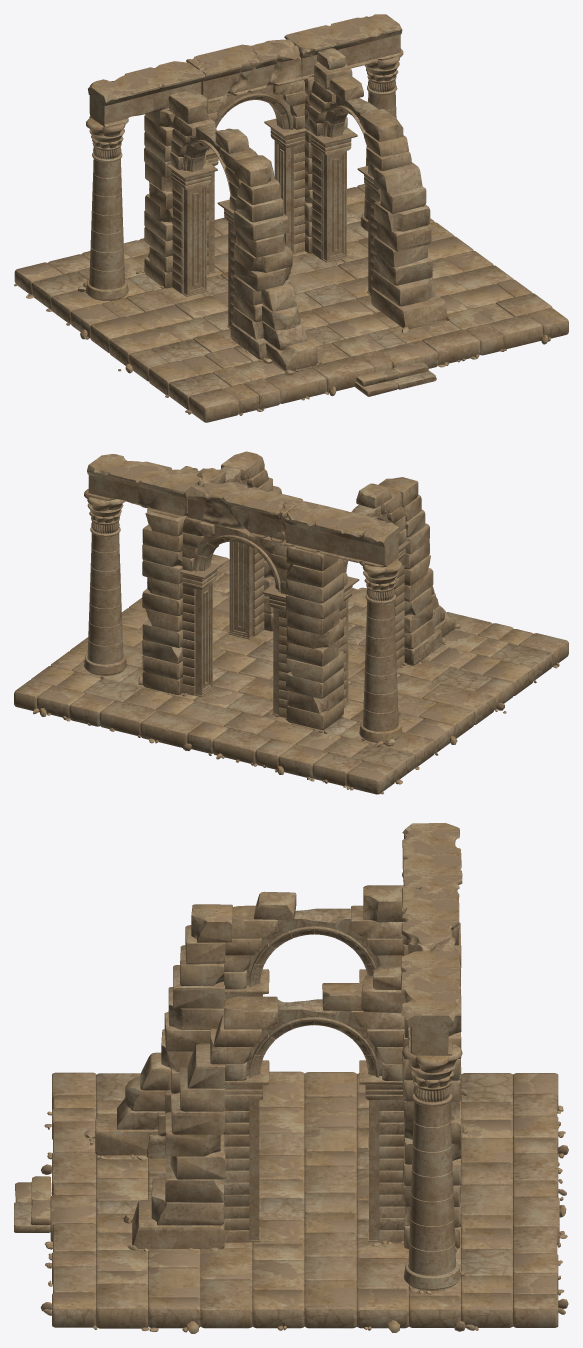
The model's file is ruin_temple_corner.gltf.
3 renders of one model, top to bottom at view 1: azimuth 30°, elevation 25°; view 2: azimuth 150°, elevation 25°; view 3: azimuth 270°, elevation 25°, orthographic. The views are drawn at different scales.
Parts seen in each view (by area): view 1: egyptian_ruins_08_iray; view 2: egyptian_ruins_08_iray; view 3: egyptian_ruins_08_iray.
Boxes of the visible parts, x1=… form: egyptian_ruins_08_iray: x1=14, y1=14, x2=568, y2=422; egyptian_ruins_08_iray: x1=14, y1=451, x2=568, y2=794; egyptian_ruins_08_iray: x1=14, y1=823, x2=568, y2=1333.
Bounding box in the file's own units: 13.22 × 7.32 × 12.46.
3 materials, 3 textured.
